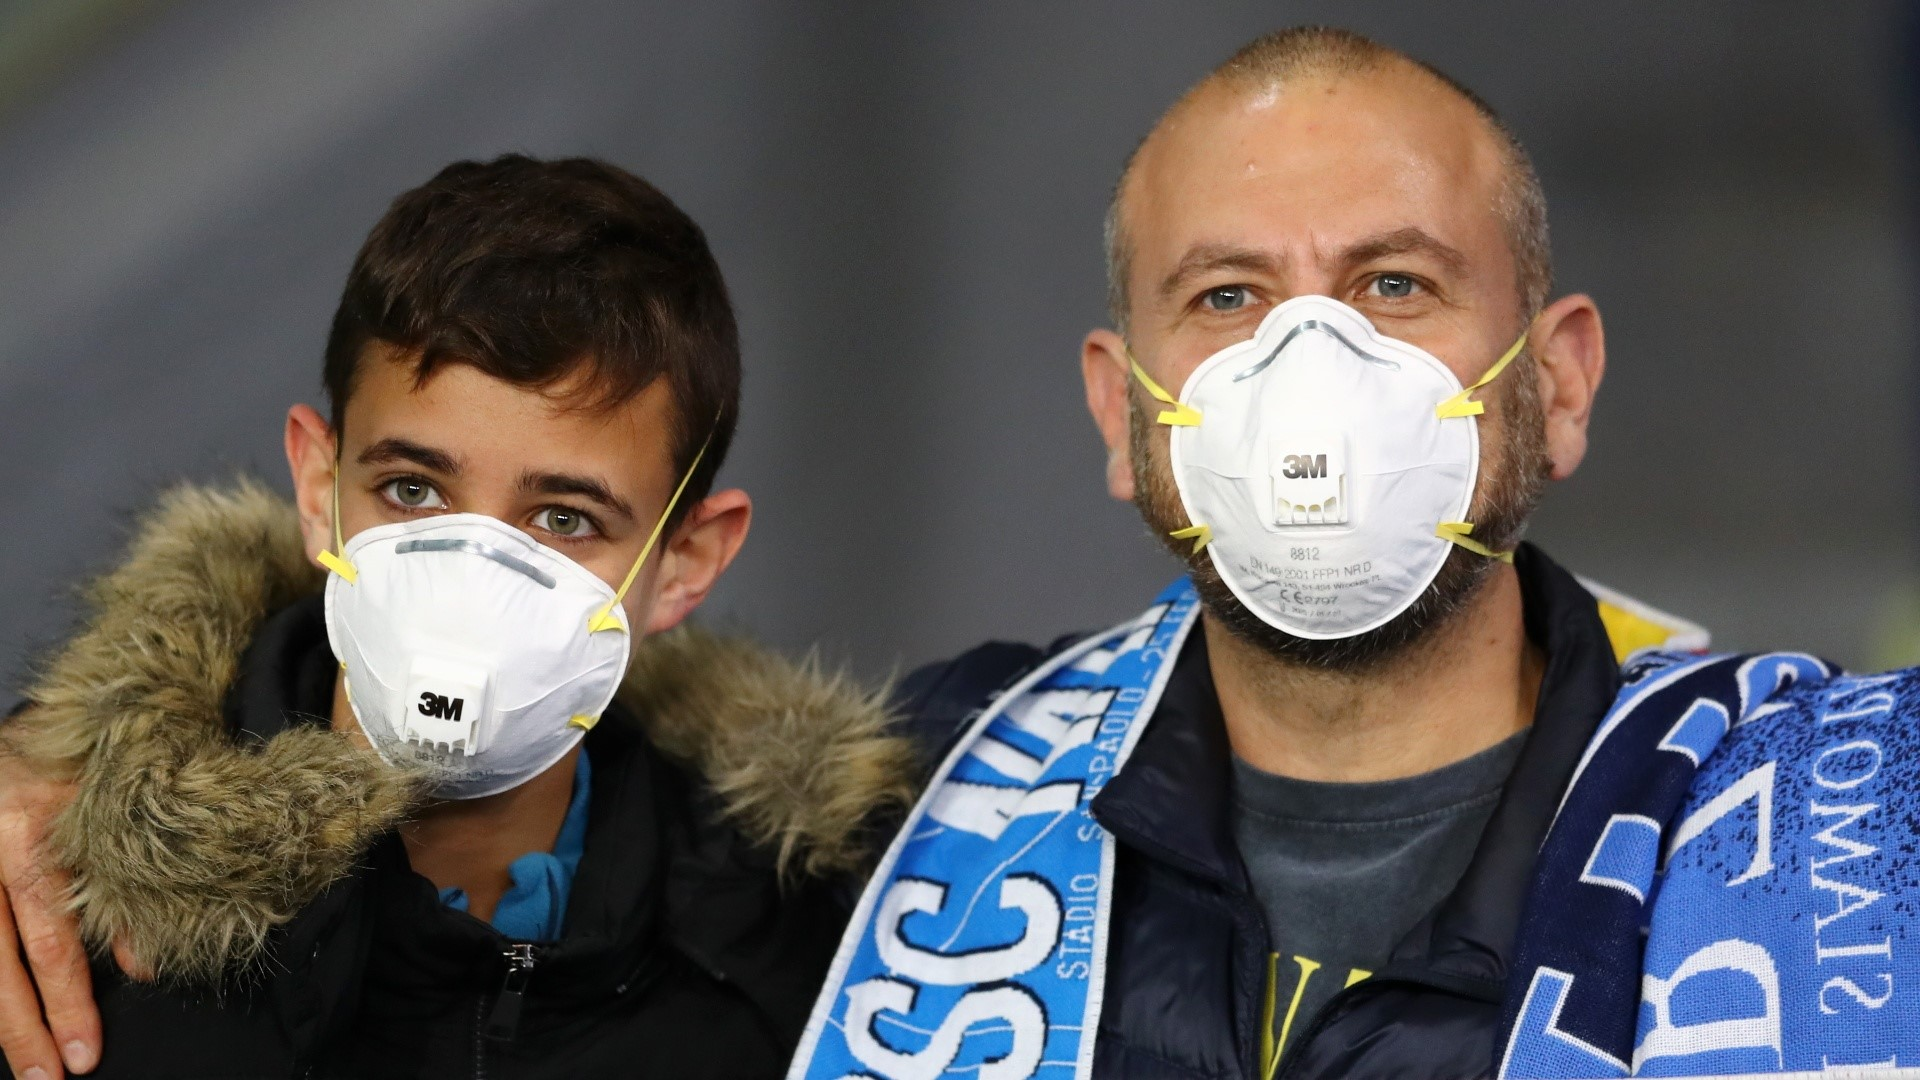face_with_mask: (1050, 51, 1613, 691), (264, 263, 776, 830)
